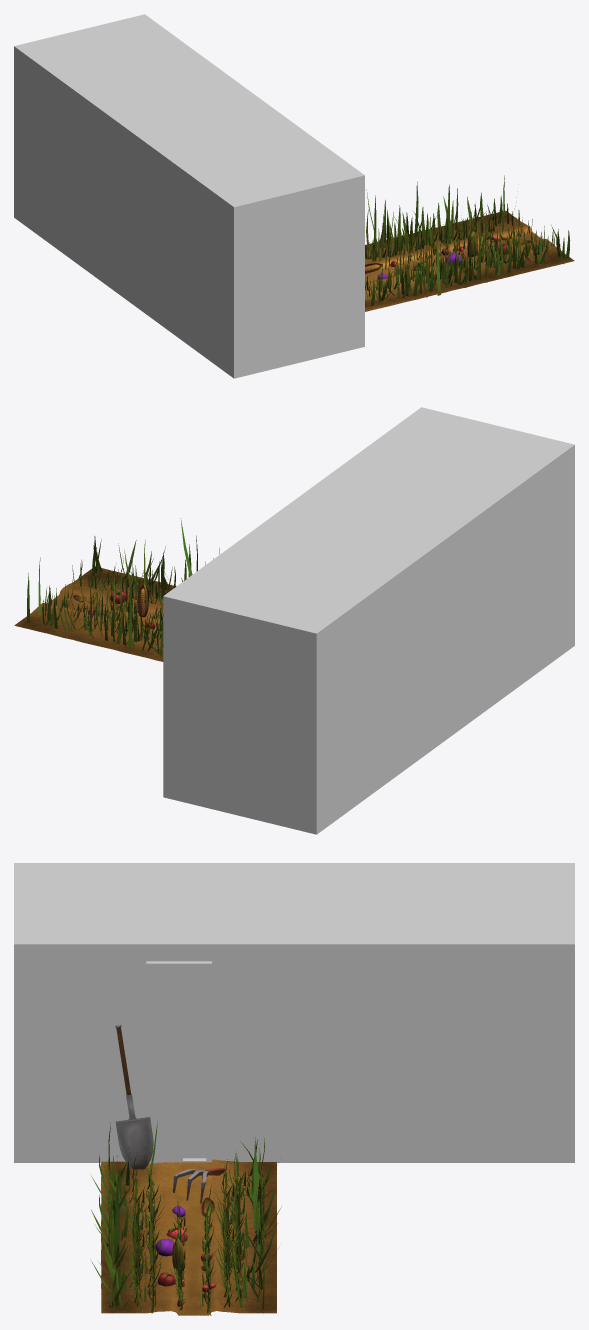
File: MataG_PII_ModeloEscenarioHuerto_Modelado_v06.fbx
3 views of the same model, one above another, from view 1: azimuth 30°, elevation 25°; view 2: azimuth 150°, elevation 25°; view 3: azimuth 270°, elevation 25° (orthographic). The views are drawn at different scales.
Visible parts, largest first — view 1: CasaPlaceholder, Cesped, Terreno; view 2: CasaPlaceholder, Cesped, Terreno; view 3: CasaPlaceholder, Terreno, PuertaPlaceholder, Cesped, Pala, Rastrillo.
Boxes of the visible parts, x1,y1,x2,y2 form: CasaPlaceholder: (14, 14, 364, 378); Cesped: (365, 175, 570, 306); Terreno: (365, 210, 574, 311); CasaPlaceholder: (163, 407, 574, 834); Cesped: (27, 518, 219, 656); Terreno: (14, 568, 176, 661); CasaPlaceholder: (14, 863, 574, 1162); Terreno: (101, 1159, 276, 1315); PuertaPlaceholder: (146, 961, 211, 1163); Cesped: (90, 1121, 281, 1315); Pala: (115, 1024, 153, 1169); Rastrillo: (173, 1167, 226, 1203).
Size of the model in its own units: 33206 by 15401 by 33760.
3 materials, 3 textured.
